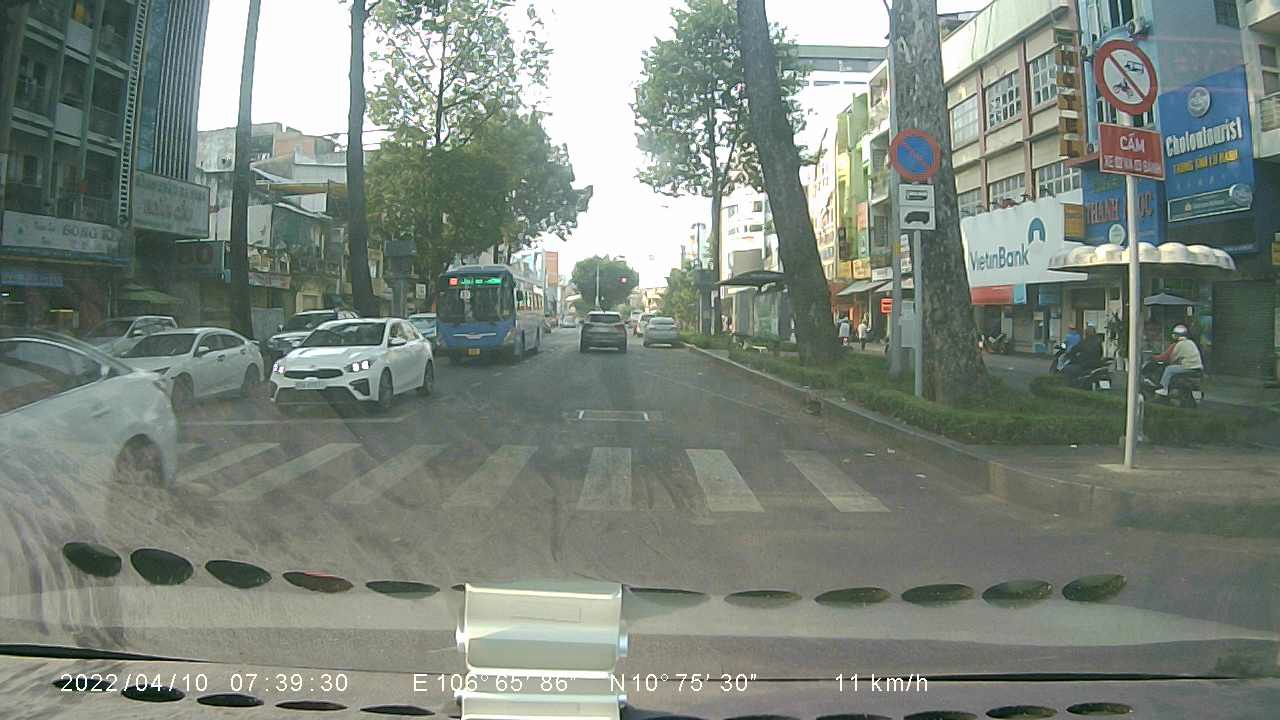Bien khac: (1090, 35, 1162, 115)
Cam do xe: (885, 126, 944, 182)
